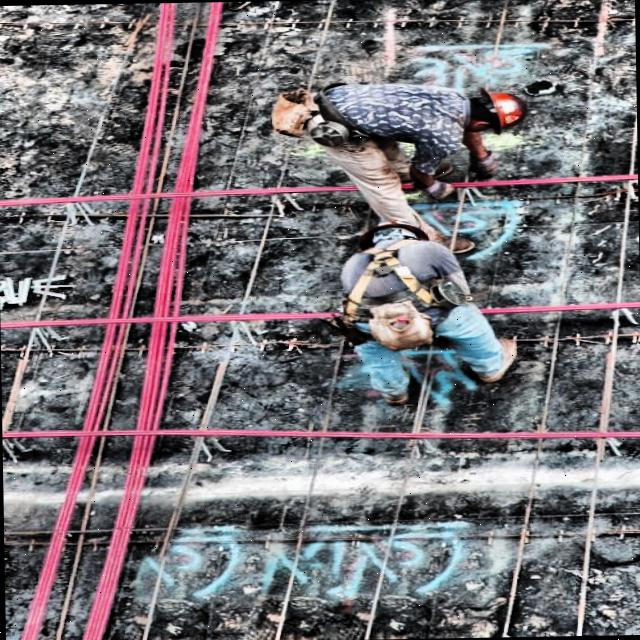helmet: (454, 86, 538, 139), (354, 218, 430, 254)
